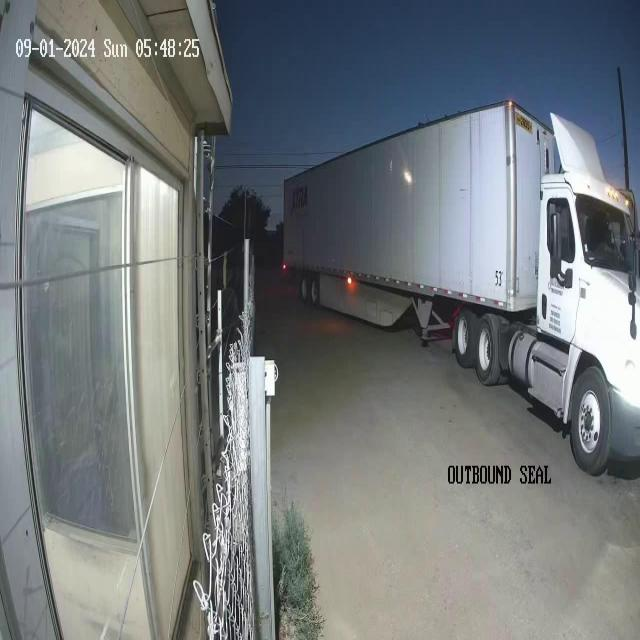TRUCK_CONTAINER: (281, 98, 640, 475)
